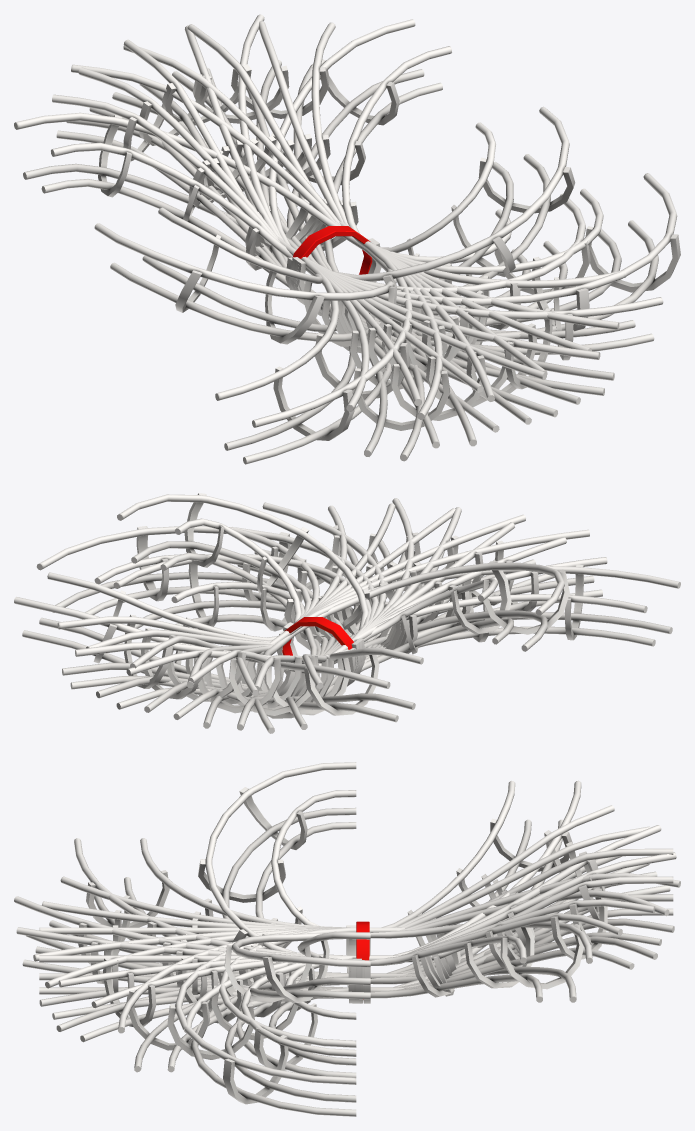
File: rails_objects.fbx
3 views of the same model, one above another, from view 1: azimuth 30°, elevation 25°; view 2: azimuth 150°, elevation 25°; view 3: azimuth 270°, elevation 25° (orthographic). The views are drawn at different scales.
Visible parts, largest first — view 1: Rails_up_180deg, Rails_up_90deg_variation, Rails_90deg_variation, Rails_180deg, Rails_up_180deg_variation, Rails_up_90deg, Rails_up_45deg_variation, Rails_up_22_5deg_variation, Rails_90deg, Rails_45deg, Rails_up_22_5deg, Rails_22_5deg (+7 smaller); view 2: Rails_up_180deg, Rails_up_180deg_variation, Rails_90deg_variation, Rails_180deg, Rails_180deg_variation, Rails_up_90deg_variation, Rails_up_90deg, Rails_up_45deg, Rails_45deg_variation, Rails_up_22_5deg, Rails_up, Rails_22_5deg_variation (+7 smaller); view 3: Rails_180deg, Rails_up_180deg, Rails_up_90deg, Rails_up_45deg, Rails_up_180deg_variation, Rails_180deg_variation, Rails_up_22_5deg_variation, Rails_up, Rails_up_22_5deg, Rails_45deg, Rails_22_5deg, Rails_up_90deg_variation (+6 smaller).
Boxes of the visible parts, box(x1,y1,x2,y2) form: Rails_up_180deg: box(94, 207, 396, 346); Rails_up_90deg_variation: box(14, 112, 363, 302); Rails_90deg_variation: box(215, 240, 419, 464); Rails_180deg: box(296, 173, 680, 341); Rails_up_180deg_variation: box(285, 106, 575, 317); Rails_up_90deg: box(268, 19, 451, 289); Rails_up_45deg_variation: box(52, 64, 364, 300); Rails_up_22_5deg_variation: box(78, 45, 364, 299); Rails_90deg: box(297, 244, 663, 360); Rails_45deg: box(296, 247, 619, 395); Rails_up_22_5deg: box(184, 21, 343, 299); Rails_22_5deg: box(296, 246, 591, 417); Rails_up_180deg: box(290, 561, 569, 673); Rails_up_180deg_variation: box(117, 493, 369, 690); Rails_90deg_variation: box(286, 564, 680, 678); Rails_180deg: box(36, 526, 379, 677); Rails_180deg_variation: box(113, 553, 371, 655); Rails_up_90deg_variation: box(256, 630, 423, 722); Rails_up_90deg: box(14, 572, 357, 703); Rails_up_45deg: box(57, 614, 357, 696); Rails_45deg_variation: box(306, 529, 607, 658); Rails_up_22_5deg: box(86, 628, 358, 709); Rails_up: box(130, 627, 360, 719); Rails_22_5deg_variation: box(305, 514, 566, 656); Rails_180deg: box(167, 925, 356, 1116); Rails_up_180deg: box(198, 762, 356, 1003); Rails_up_90deg: box(354, 920, 592, 1003); Rails_up_45deg: box(359, 888, 669, 1003); Rails_up_180deg_variation: box(224, 931, 370, 1003); Rails_180deg_variation: box(211, 925, 356, 1077); Rails_up_22_5deg_variation: box(361, 826, 676, 1003); Rails_up: box(356, 848, 673, 996); Rails_up_22_5deg: box(360, 873, 680, 1003); Rails_45deg: box(45, 927, 342, 1042); Rails_22_5deg: box(33, 927, 347, 1019); Rails_up_90deg_variation: box(362, 780, 581, 1002).
Size of what is drawn, in the model's own units: 1107 by 289 by 1282.
Materials: 1 (1 with a texture image).
